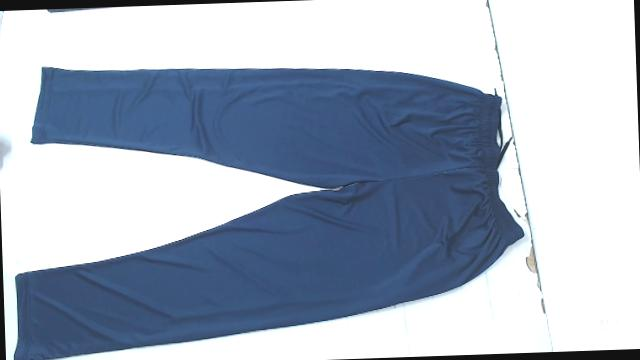new-garment: (14, 67, 522, 360)
